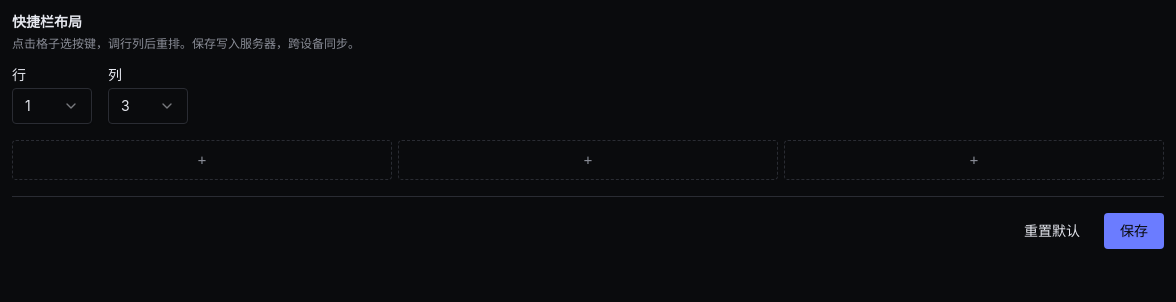
Test: ToolbarConfigSection › save error surfaces inline
Click the button "保存" at (1134, 231), box [1104,213,1164,249]
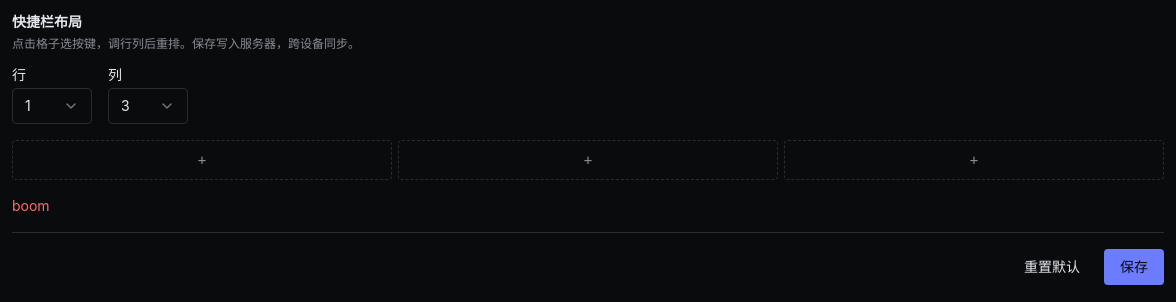
Expected: the message reads "boom", [12,197,50,214]
